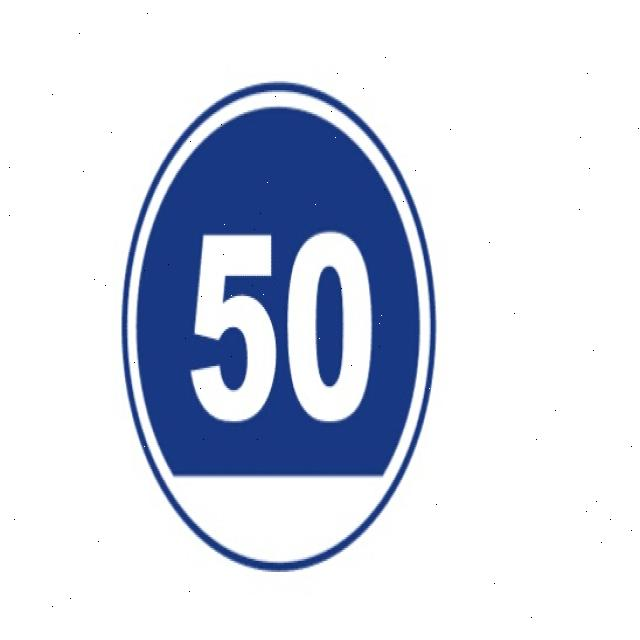speed limit 50: (121, 80, 436, 580)
